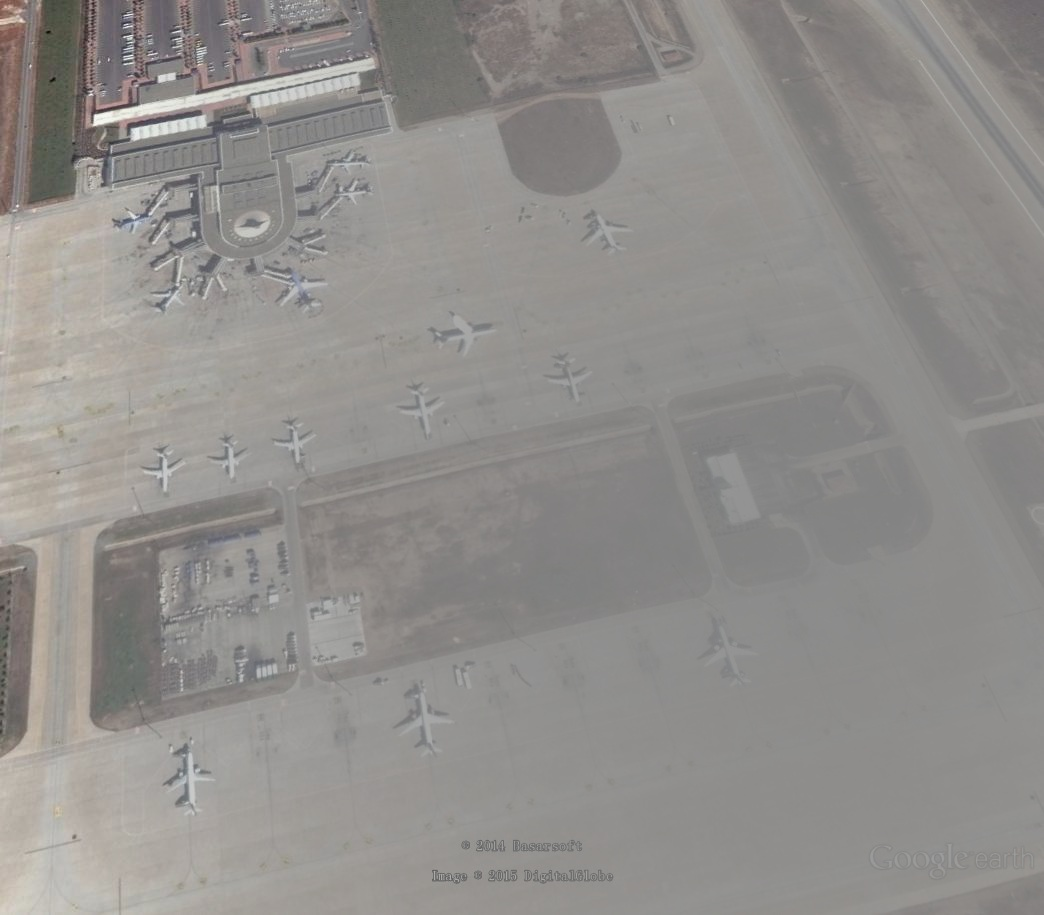aircraft: (395, 686, 459, 758), (160, 747, 222, 821), (701, 623, 763, 691), (428, 312, 502, 362), (397, 384, 448, 442), (541, 358, 598, 408), (582, 208, 635, 259), (136, 446, 187, 498), (275, 268, 330, 315), (206, 435, 255, 484), (270, 421, 320, 469), (149, 282, 188, 318), (324, 148, 374, 176), (331, 179, 375, 208), (112, 208, 155, 237)
